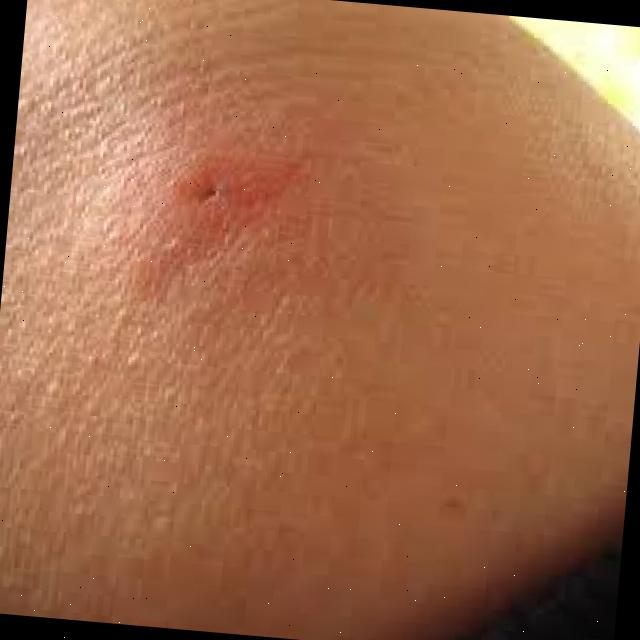kene: (153, 164, 247, 218)
